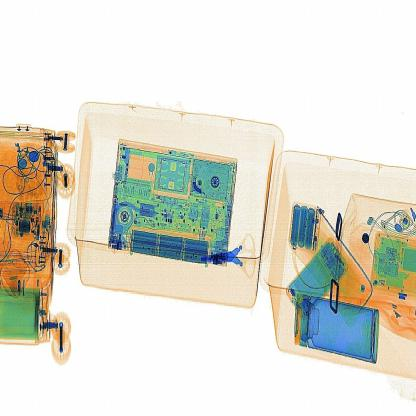gun: (196, 234, 270, 292)
